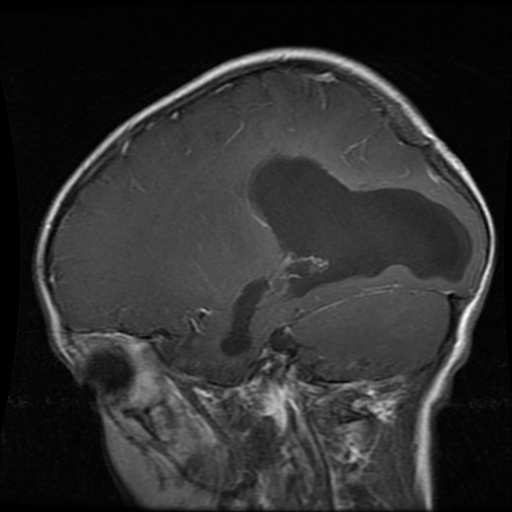glioma: (222, 153, 469, 358)
